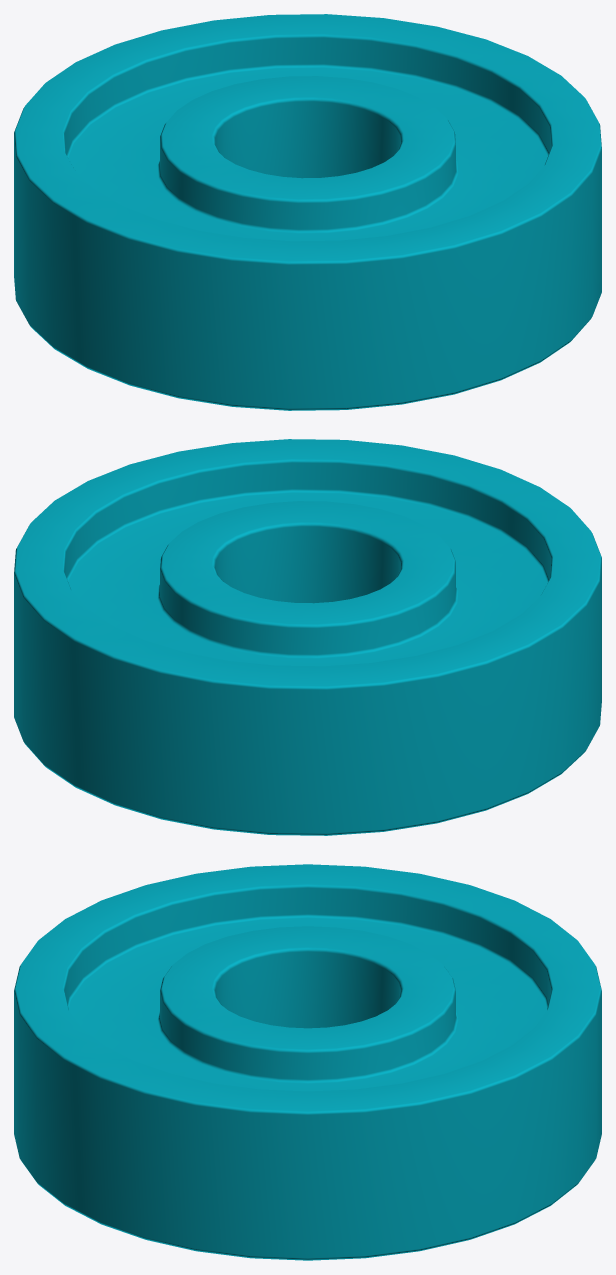
File: Public_18_Weight_6.glb
3 renders of one model, top to bottom at view 1: azimuth 30°, elevation 25°; view 2: azimuth 150°, elevation 25°; view 3: azimuth 270°, elevation 25°, orthographic.
Visible parts, largest first — view 1: Public_18_Weight_6; view 2: Public_18_Weight_6; view 3: Public_18_Weight_6.
Boxes of the visible parts, x1,y1,x2,y2 form: Public_18_Weight_6: (14,14,601,410); Public_18_Weight_6: (14,439,601,835); Public_18_Weight_6: (14,864,601,1260).
Bounding box in the file's own units: 0.9686 × 0.2719 × 0.9686.
1 material, 1 textured.
